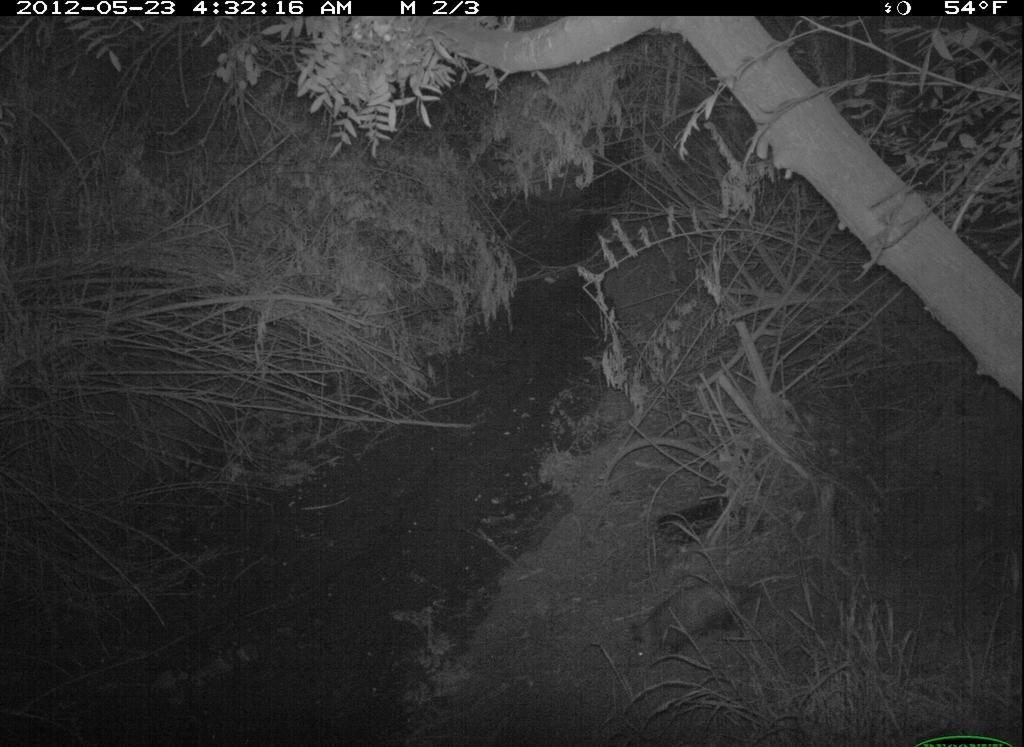opossum: (629, 556, 797, 676)
